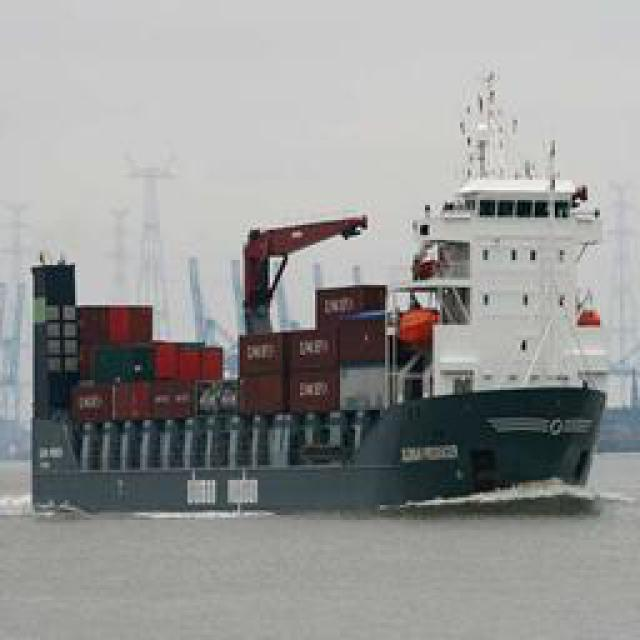Ship: (20, 69, 612, 515)
